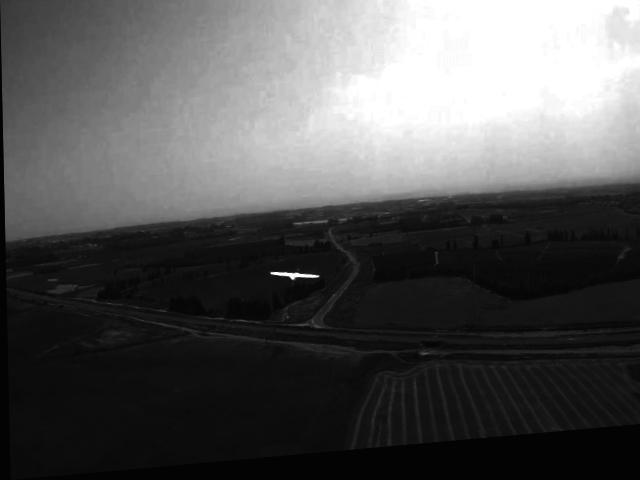hedef: (261, 259, 330, 303)
